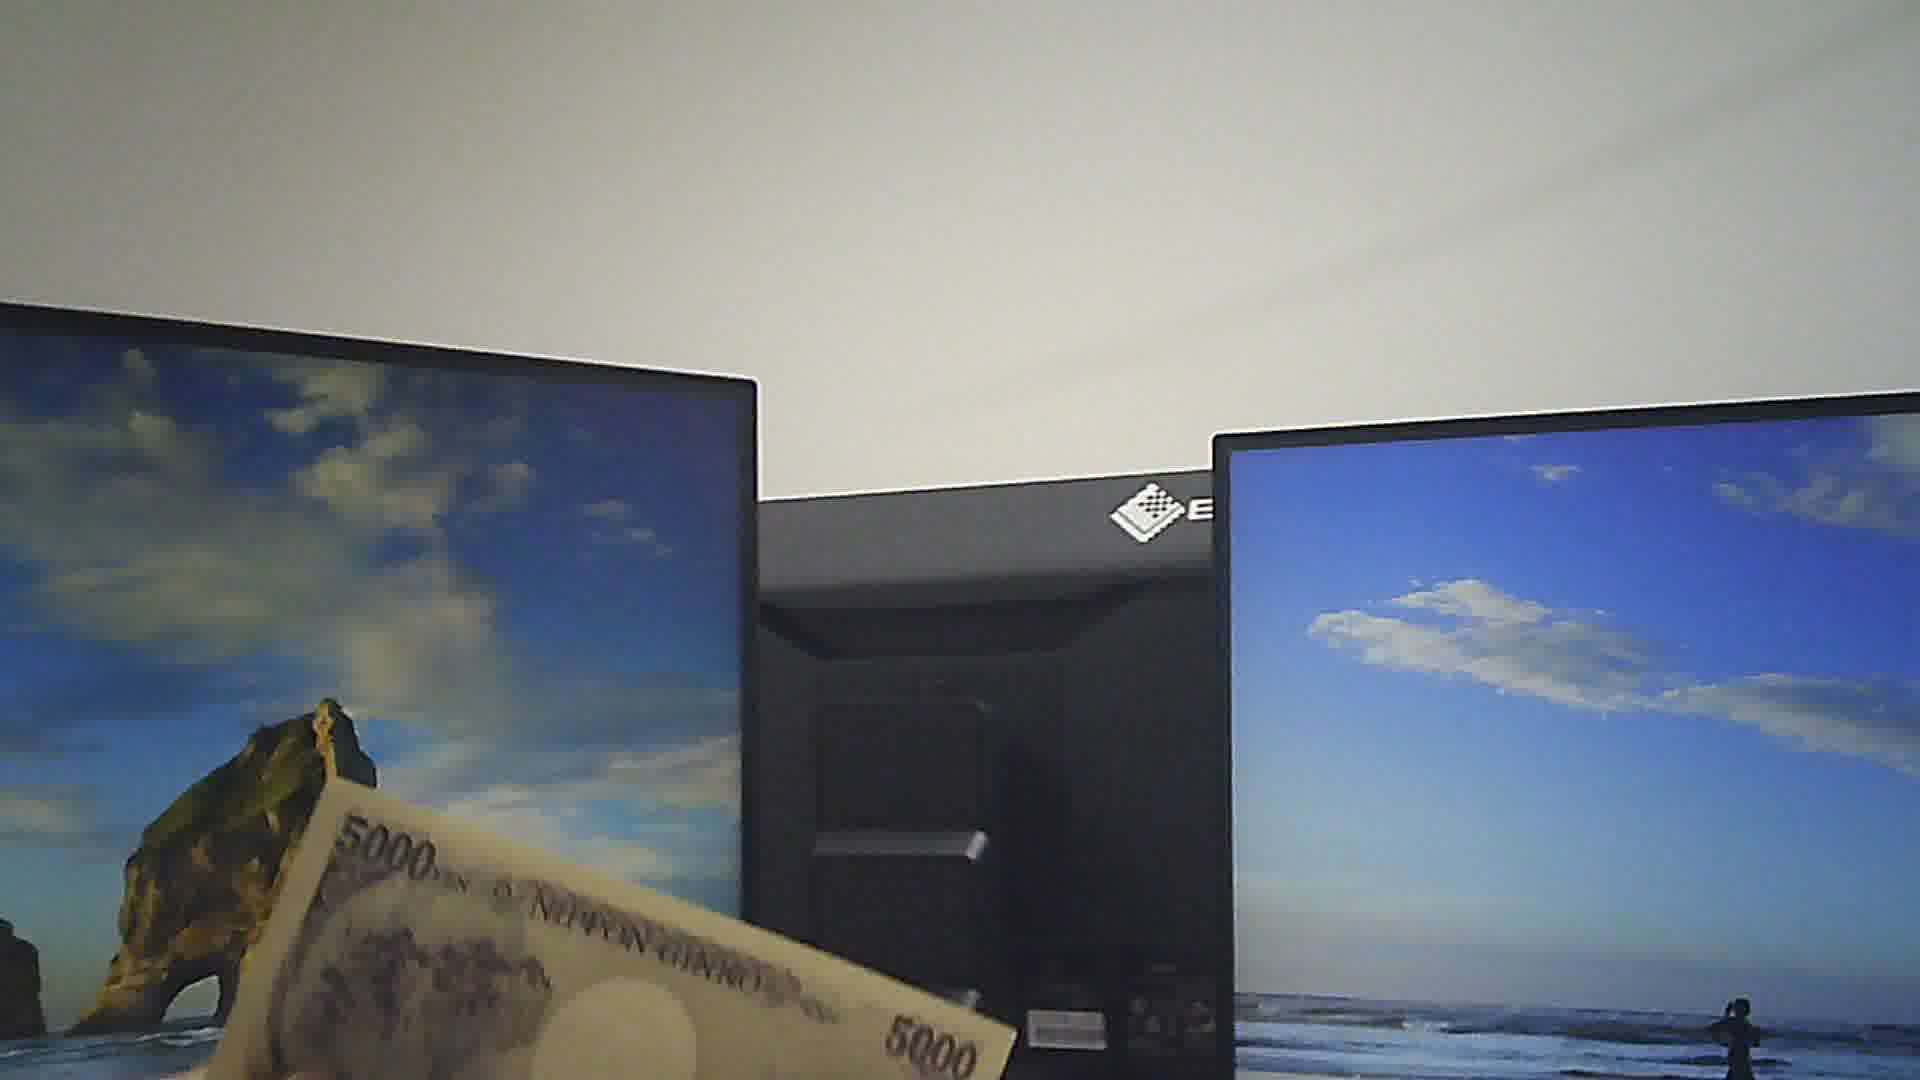5,000 Yen: (196, 773, 1043, 1063)
